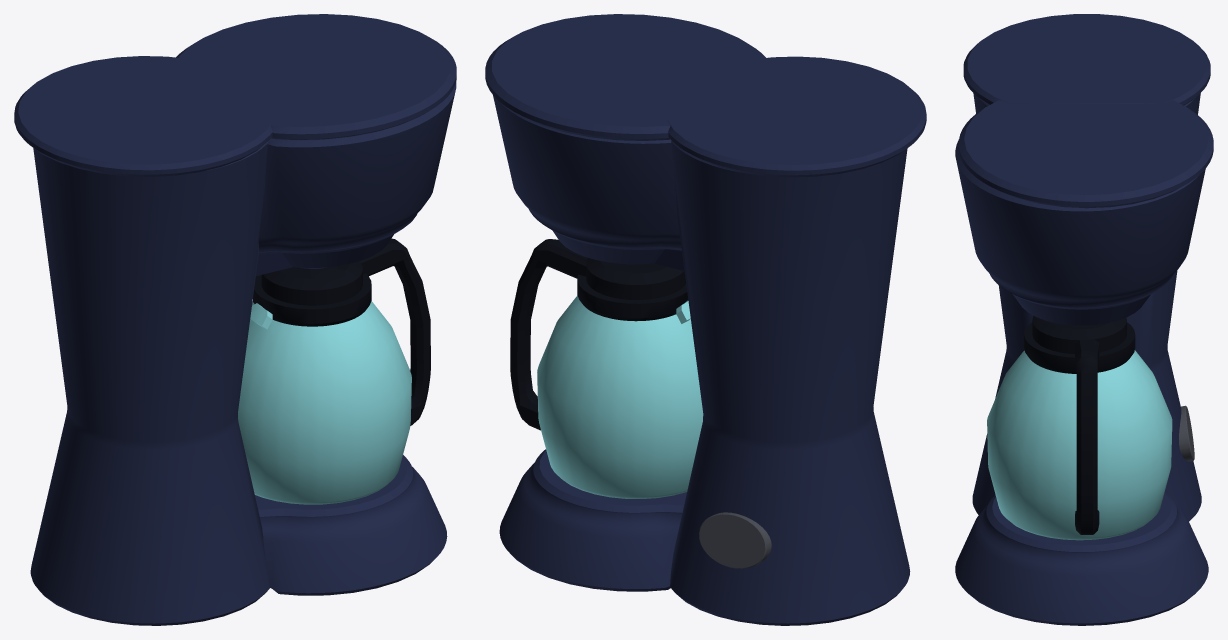
The model's file is kahvinkeitin1.fbx.
3 renders of one model, left to right at view 1: azimuth 30°, elevation 25°; view 2: azimuth 150°, elevation 25°; view 3: azimuth 270°, elevation 25°, orthographic. The views are drawn at different scales.
Visible parts, largest first — view 1: valmis keitin; view 2: valmis keitin; view 3: valmis keitin.
Boxes of the visible parts, left/top/right/bottom form: valmis keitin: left=14, top=14, right=456, bottom=625; valmis keitin: left=485, top=14, right=926, bottom=625; valmis keitin: left=955, top=14, right=1213, bottom=625.
Bounding box in the file's own units: 62.24 × 68.23 × 36.67.
